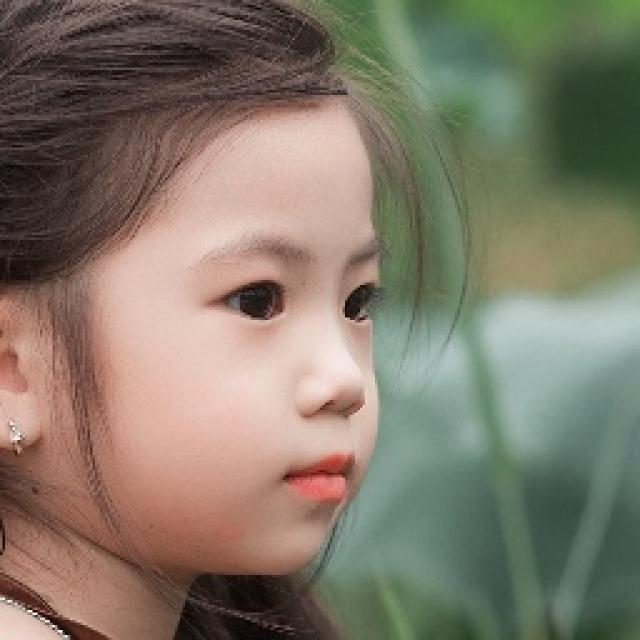earlobe: (0, 405, 49, 456)
eye: (217, 271, 290, 331), (342, 279, 379, 330)
nose: (300, 404, 360, 434)
wholeear: (0, 289, 45, 452)
